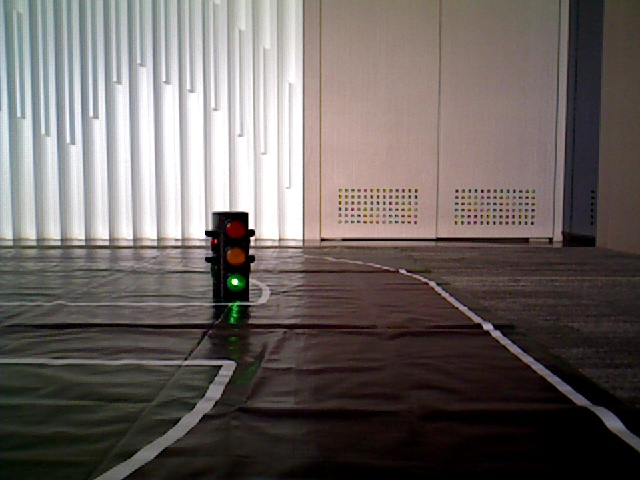green: (217, 217, 247, 292)
